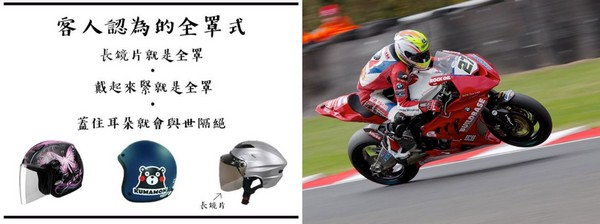helmet: (119, 131, 185, 205), (208, 141, 293, 197), (25, 138, 88, 197), (393, 27, 442, 69)
